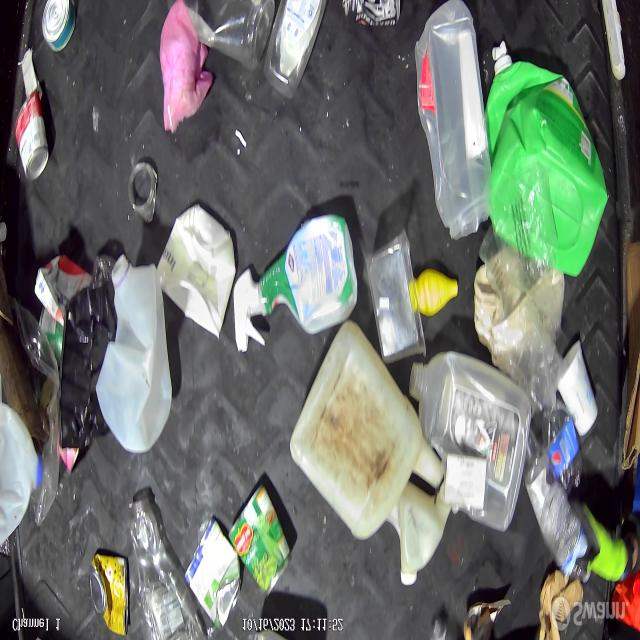can: (228, 484, 292, 600), (186, 515, 240, 631), (85, 553, 126, 639), (15, 93, 50, 179), (41, 0, 77, 54)
milk_jug: (288, 319, 444, 544), (408, 350, 534, 534), (98, 256, 169, 453)
non_white_jug: (492, 66, 603, 280)
plastic_bottle: (128, 494, 192, 636), (263, 0, 327, 103), (187, 0, 276, 72), (542, 397, 581, 493)
